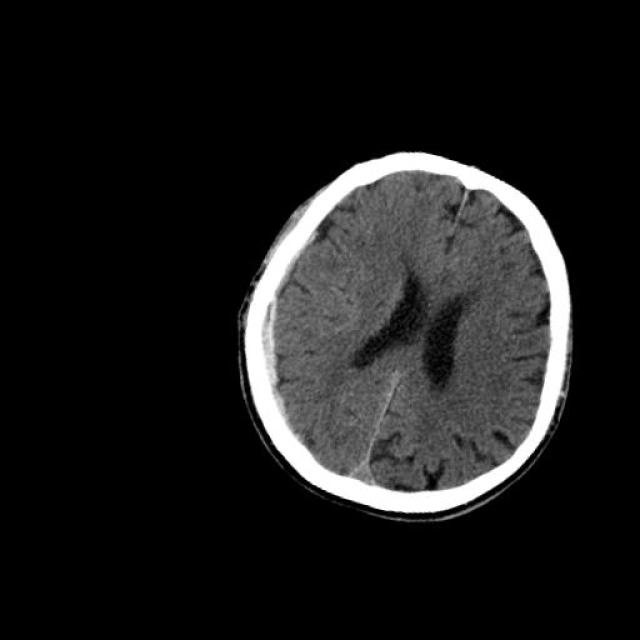Subdural: (205, 278, 336, 478)
